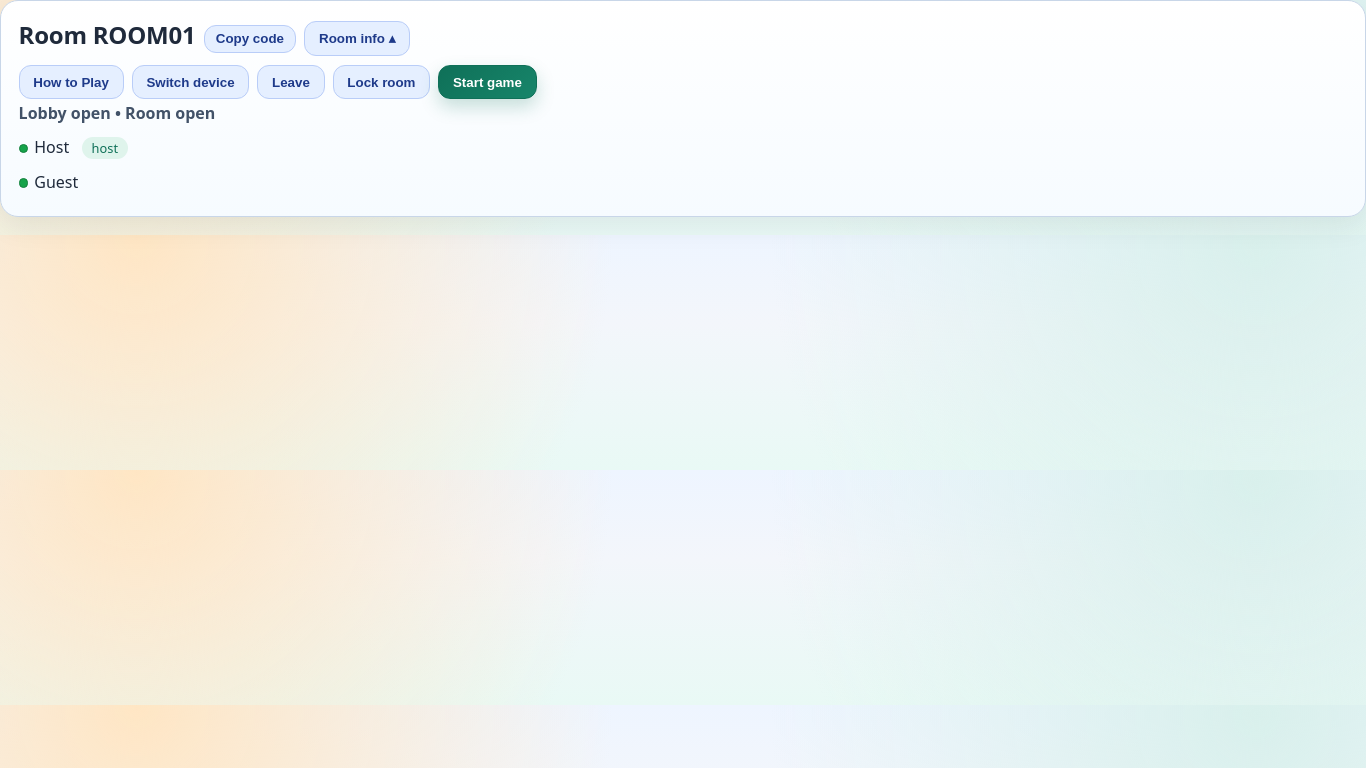
GameClient › requests transfer code from room actions and renders it in modal
Click the button "Switch device" at (190, 82), box [132,65,249,100]
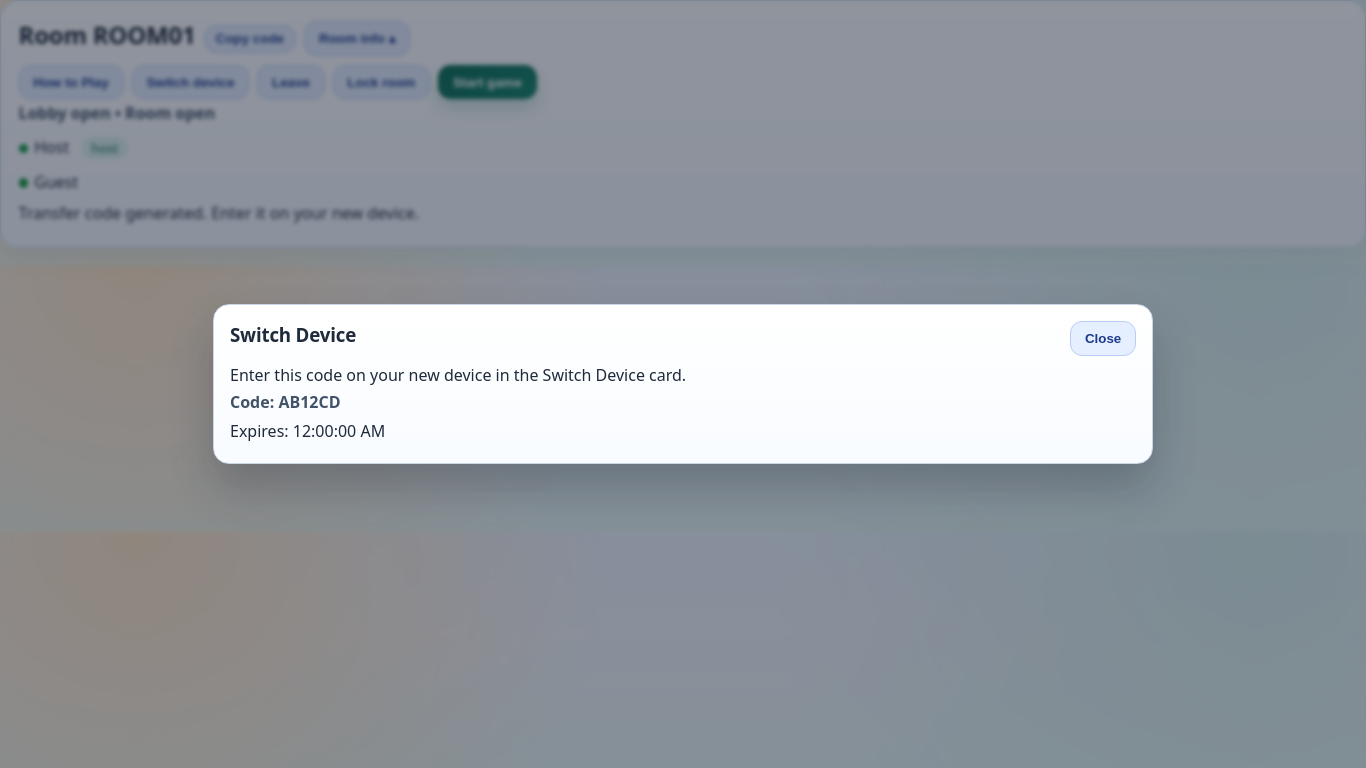
Expected: the heading "Switch Device" is shown, [230,322,356,347]
Expected: the text "Code:" is shown, [230,391,278,413]
Expected: the text "AB12CD" is shown, [278,391,340,413]
